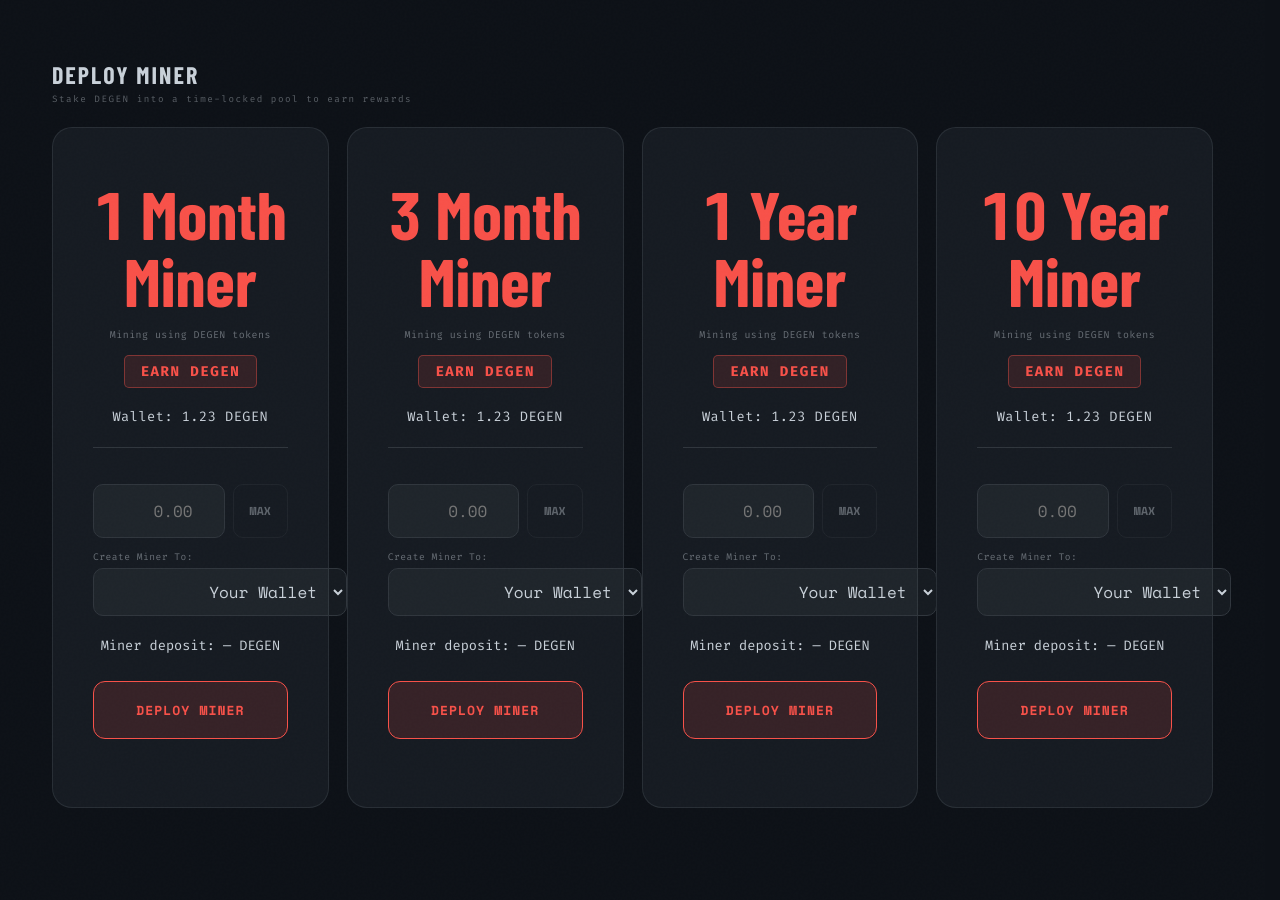
it: miner forms › does not use a displayed old balance to authorize a deposit
Step 1. Click the button "MAX" below "1 Month" → click(260, 511), box [233,484,288,538]
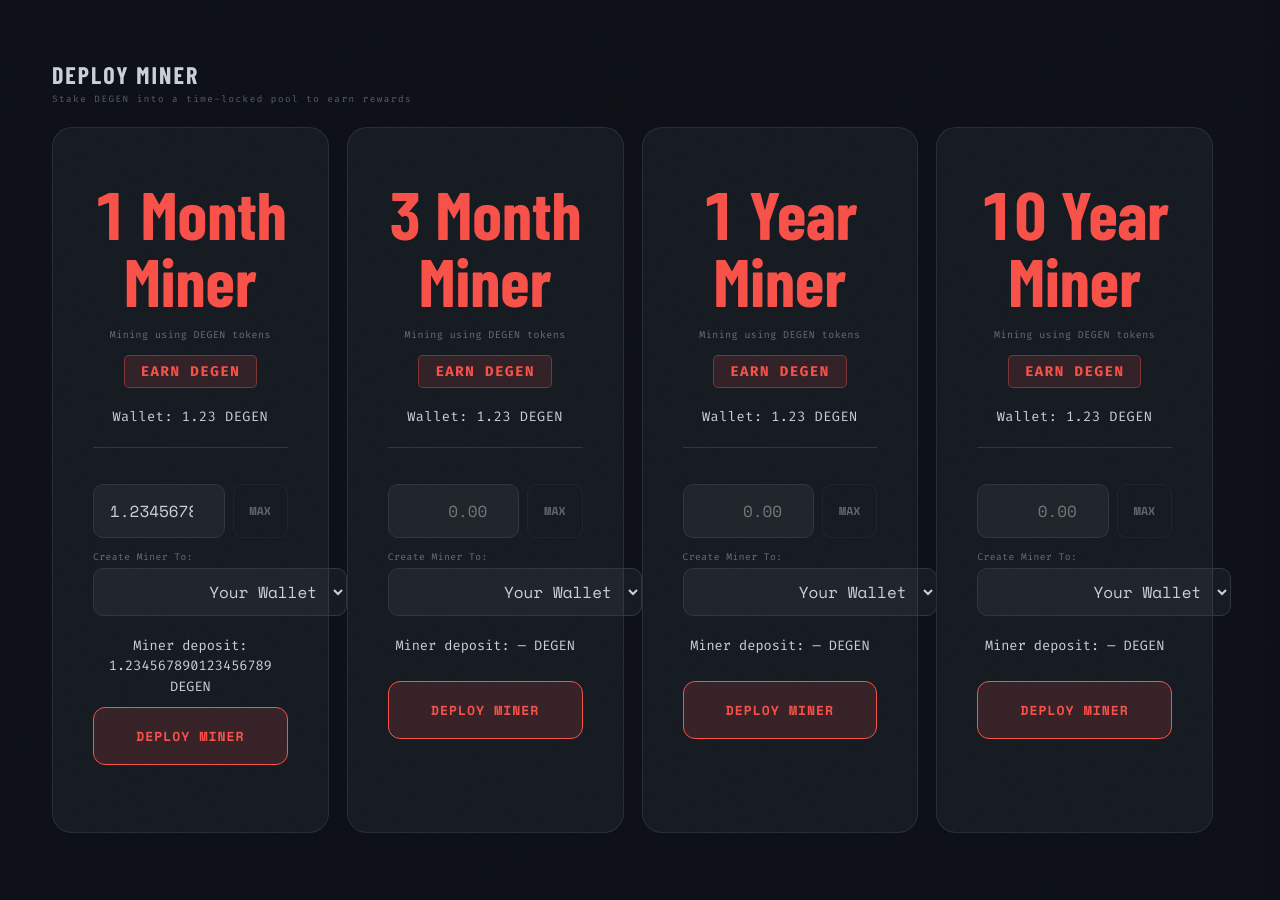
Step 2. Click the button "Deploy Miner" below "1.234567890123456789" → click(190, 736), box [93,707,288,765]
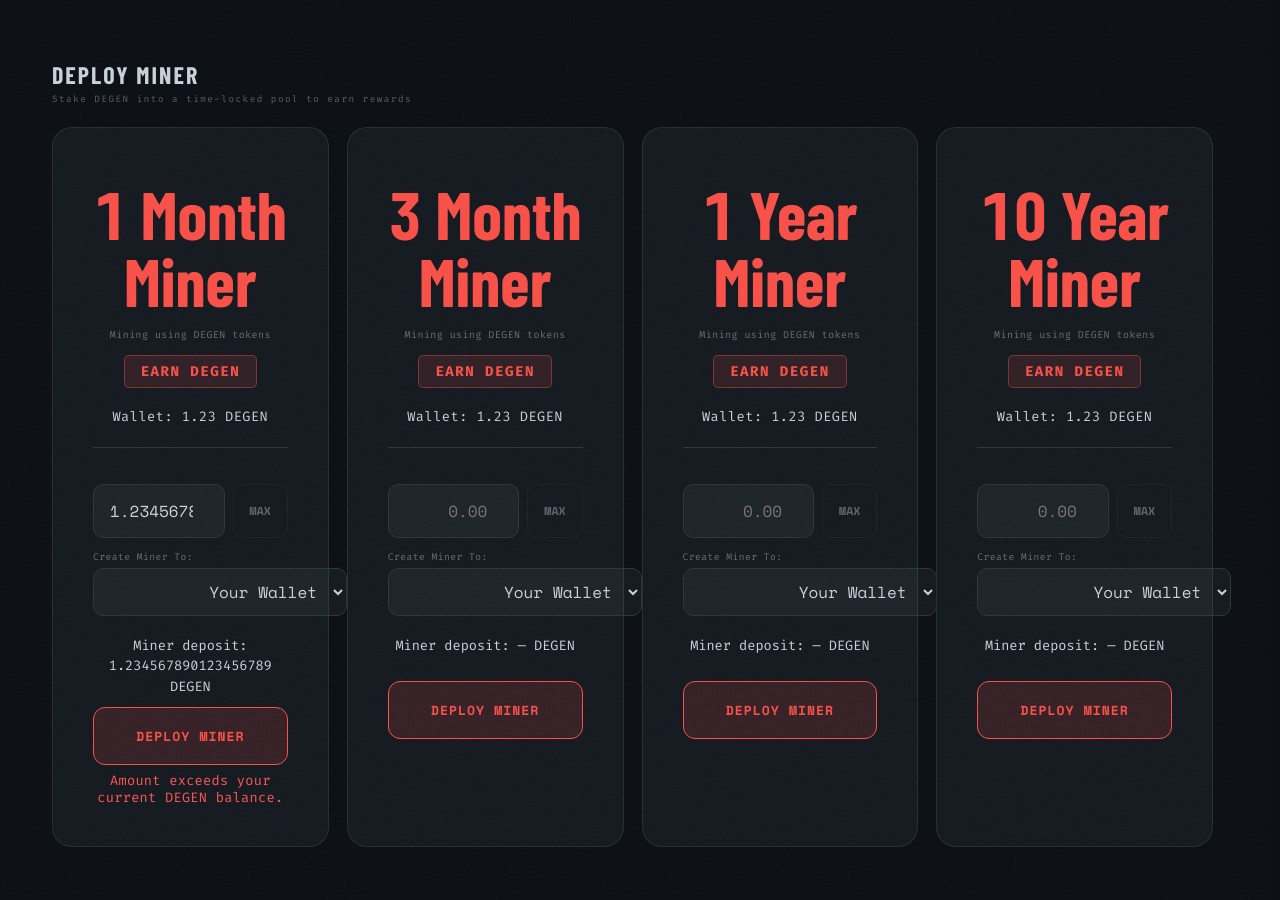
Expected: the text "Amount exceeds your current DEGEN balance." is shown, [93,772,288,806]
